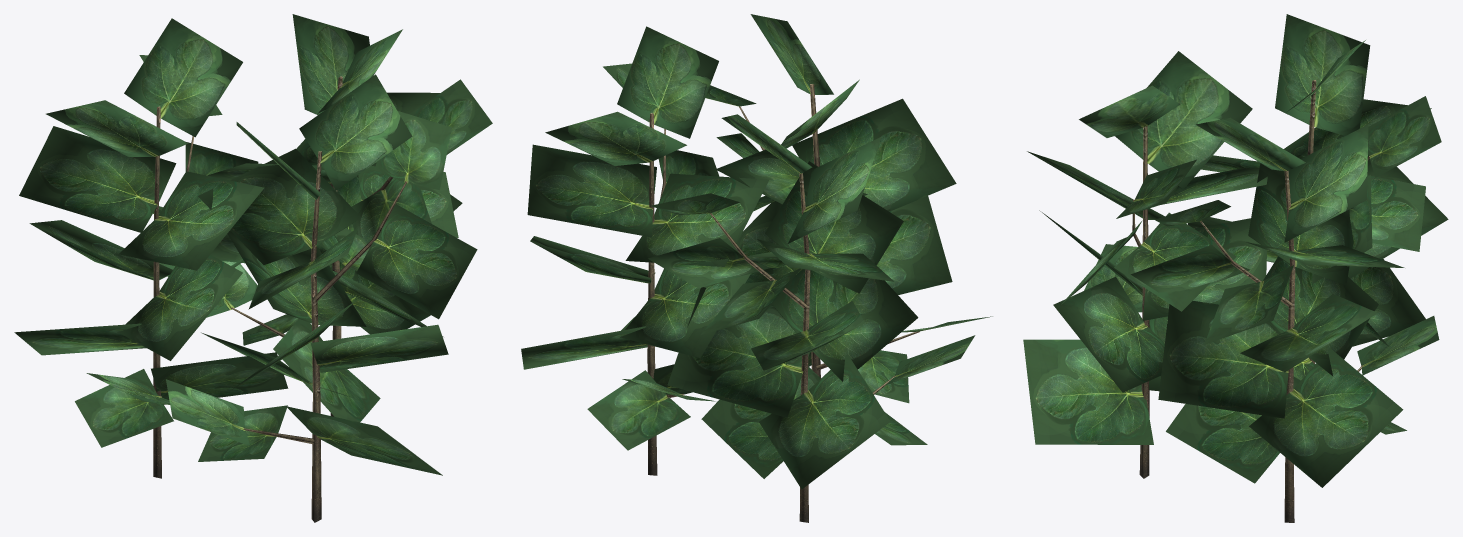
File: ficus carica_m.FBX
3 renders of one model, left to right at view 1: azimuth 30°, elevation 25°; view 2: azimuth 150°, elevation 25°; view 3: azimuth 270°, elevation 25°, orthographic. The views are drawn at different scales.
Parts seen in each view (by area): view 1: ficus carica03, ficus carica004, ficus carica005; view 2: ficus carica004, ficus carica005, ficus carica03; view 3: ficus carica005, ficus carica03, ficus carica004.
Boxes of the visible parts, bbox=[...] form: ficus carica03: bbox=[166, 74, 477, 522]; ficus carica004: bbox=[14, 18, 288, 478]; ficus carica005: bbox=[159, 14, 492, 422]; ficus carica004: bbox=[648, 114, 975, 522]; ficus carica005: bbox=[521, 26, 768, 475]; ficus carica03: bbox=[705, 14, 992, 403]; ficus carica005: bbox=[1131, 117, 1439, 522]; ficus carica03: bbox=[1023, 51, 1267, 478]; ficus carica004: bbox=[1188, 14, 1448, 380].
Size of the model in its own units: 78.41 by 78.7 by 71.96.
